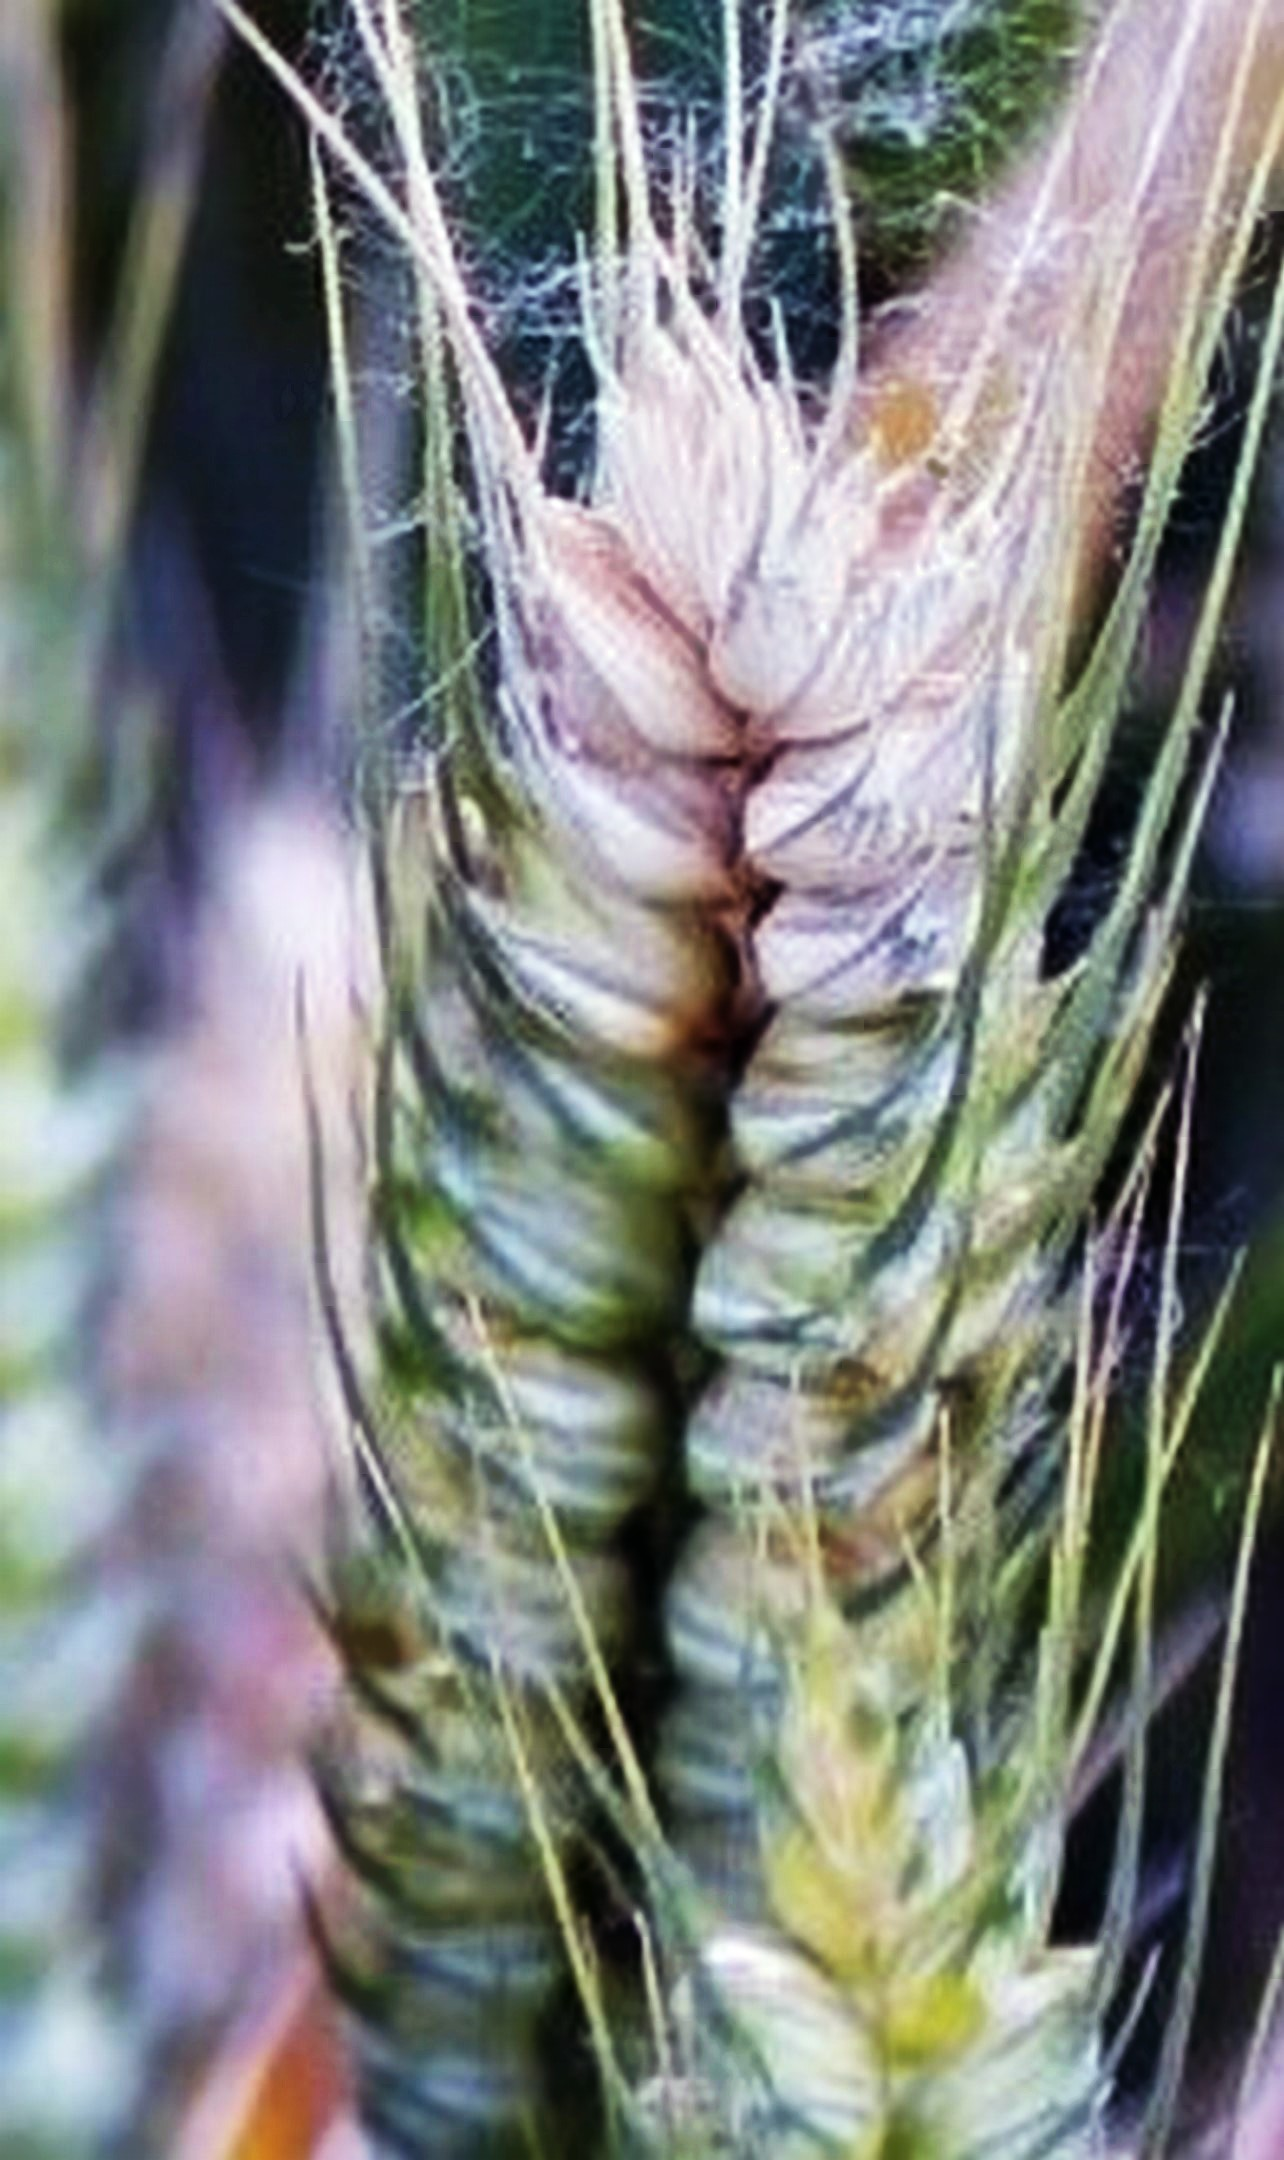Wheat scab: (266, 281, 1107, 2015)
